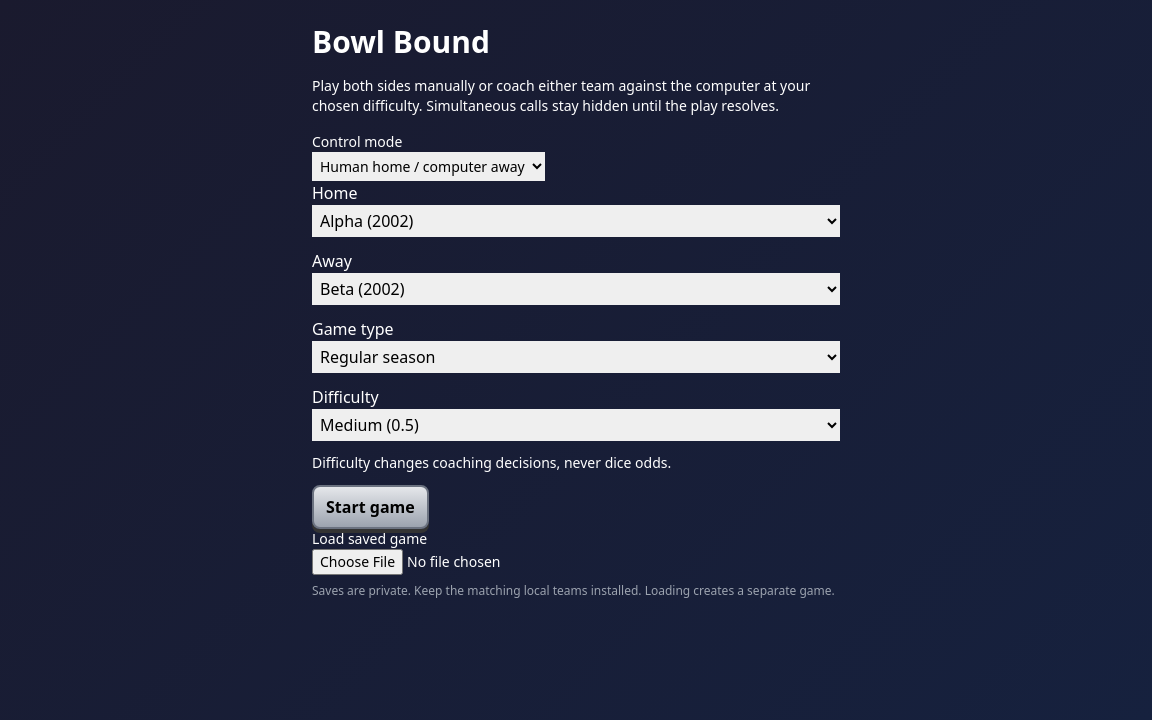
Scenario: keeps genuine football decisions blocking
Check: the button with test id "start-game" is shown, box [312,485,429,529]
Select "Two-sided manual play" in the dropdown labelled "Control mode". click: (428, 166)
box: [312,152,545,181]
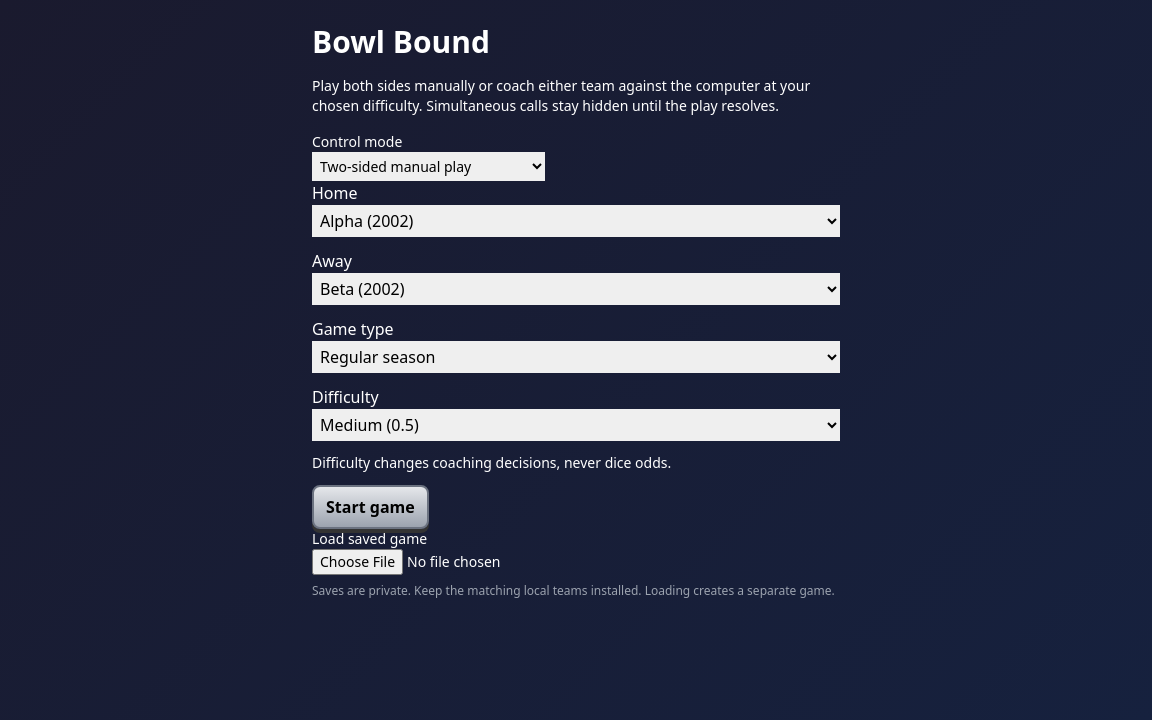
Click the button with test id "start-game". click: (370, 507)
box: [312,485,429,529]
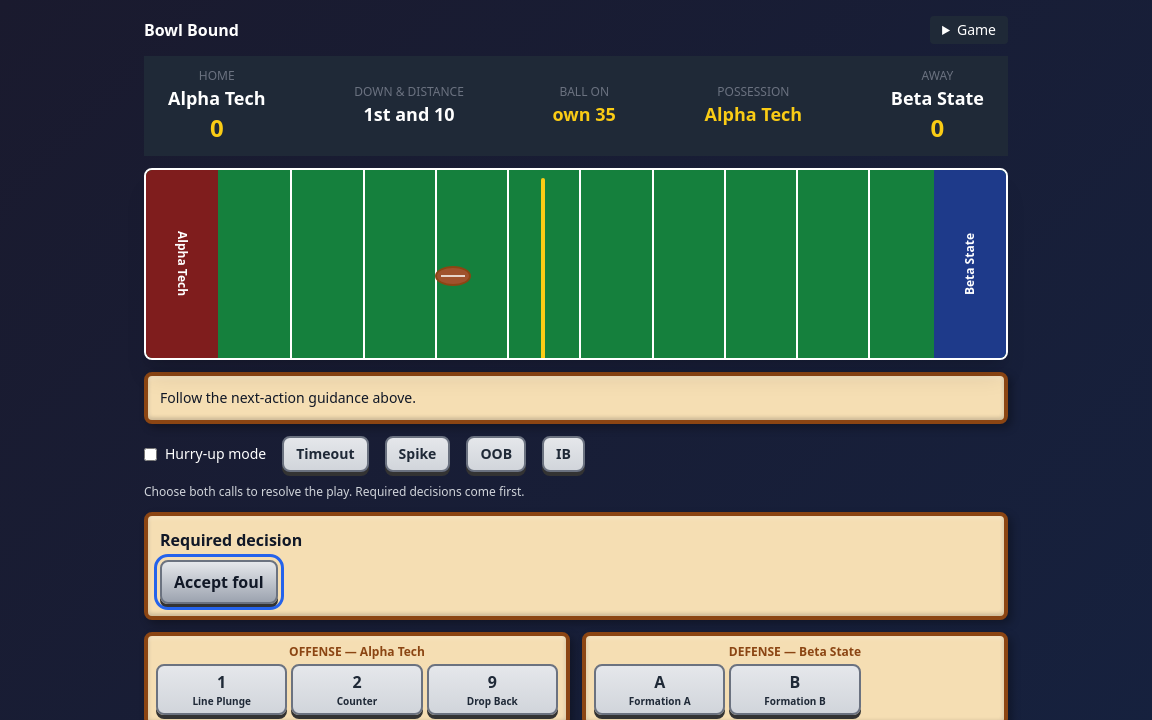
Check: the element with test id "penalty-choices" is shown, box [144,512,1008,620]
Check: the button with test id "offense-play-1" is disabled, box [156,664,287,715]
